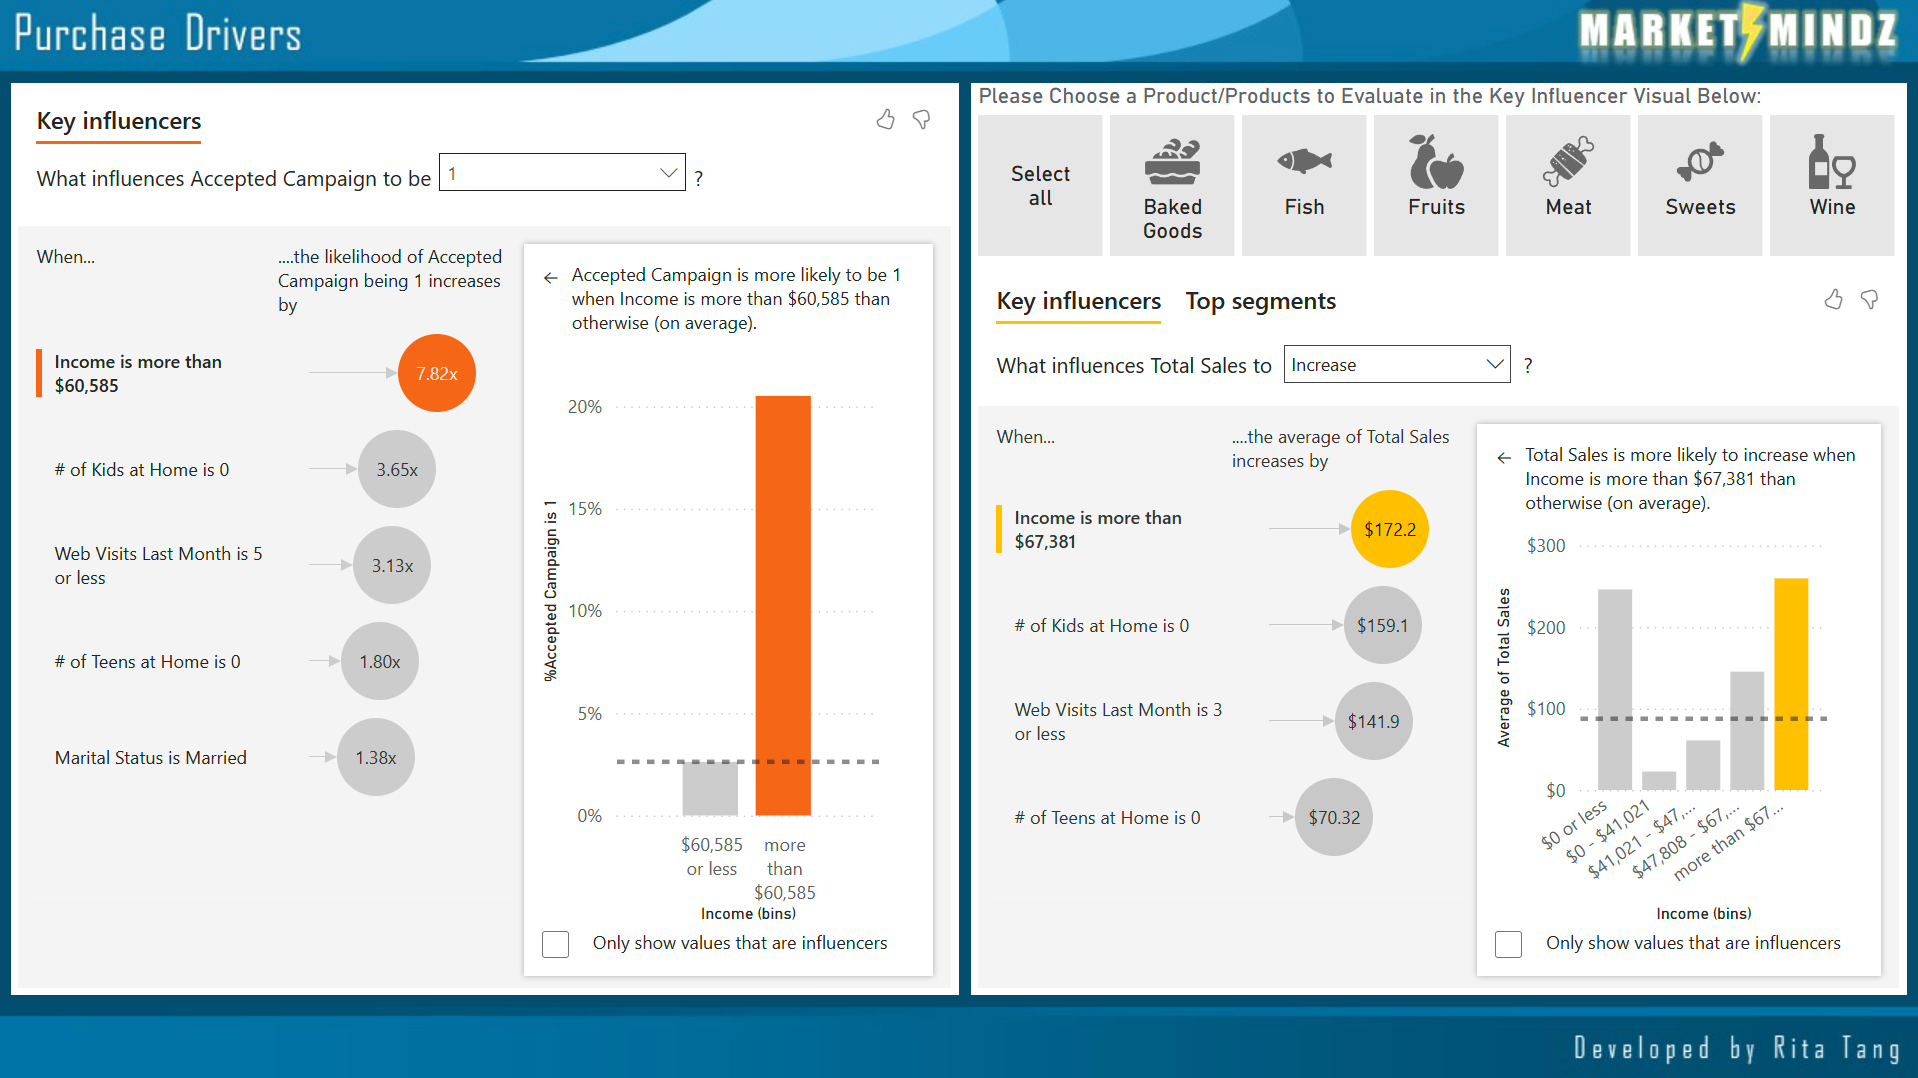

Layout of this report page (visuals, bound fields, positions):
{"tool":"powerbi","page":{"name":"Purchase Drivers","canvas":[1280,720],"ordinal":2},"visuals":[{"type":"keyDriversVisual","fields":{"Target":["campaign.Campaign"],"ExplainBy":["marketmindz_research_data.Age","marketmindz_research_data. Income ","marketmindz_research_data.Marital_Status","marketmindz_research_data.Kidhome","marketmindz_research_data.Teenhome","marketmindz_research_data.Web Visits Last Month","marketmindz_research_data.Country","marketmindz_research_data.Education"]},"box":[8,56,632,608],"z":0},{"type":"keyDriversVisual","fields":{"ExplainBy":["marketmindz_research_data.Age","marketmindz_research_data. Income ","marketmindz_research_data.Marital_Status","marketmindz_research_data.Kidhome","marketmindz_research_data.Teenhome","marketmindz_research_data.Web Visits Last Month","marketmindz_research_data.Country","marketmindz_research_data.Education"],"Target":["products.Total Sales"]},"box":[648,176,624,488],"z":1000},{"type":"advancedSlicerVisual","title":"Please Choose a Product/Products to Evaluate in  the Key Influencer Visual Below:","fields":{"Values":["products.Product"]},"box":[648,56,624,120],"z":2000}]}

Visuals, with their boxes in screenshot pixels (x1, y1, x2, y2), scaled from the page's 1280x720 canvas onto the 1918x1078 screenshot:
keyDriversVisual - campaign.Campaign x marketmindz_research_data.Age: 12,84,959,994
keyDriversVisual - marketmindz_research_data.Age x marketmindz_research_data. Income : 971,264,1906,994
"Please Choose a Product/Products to Evaluate in  the Key Influencer Visual Below:" advancedSlicerVisual: 971,84,1906,264
